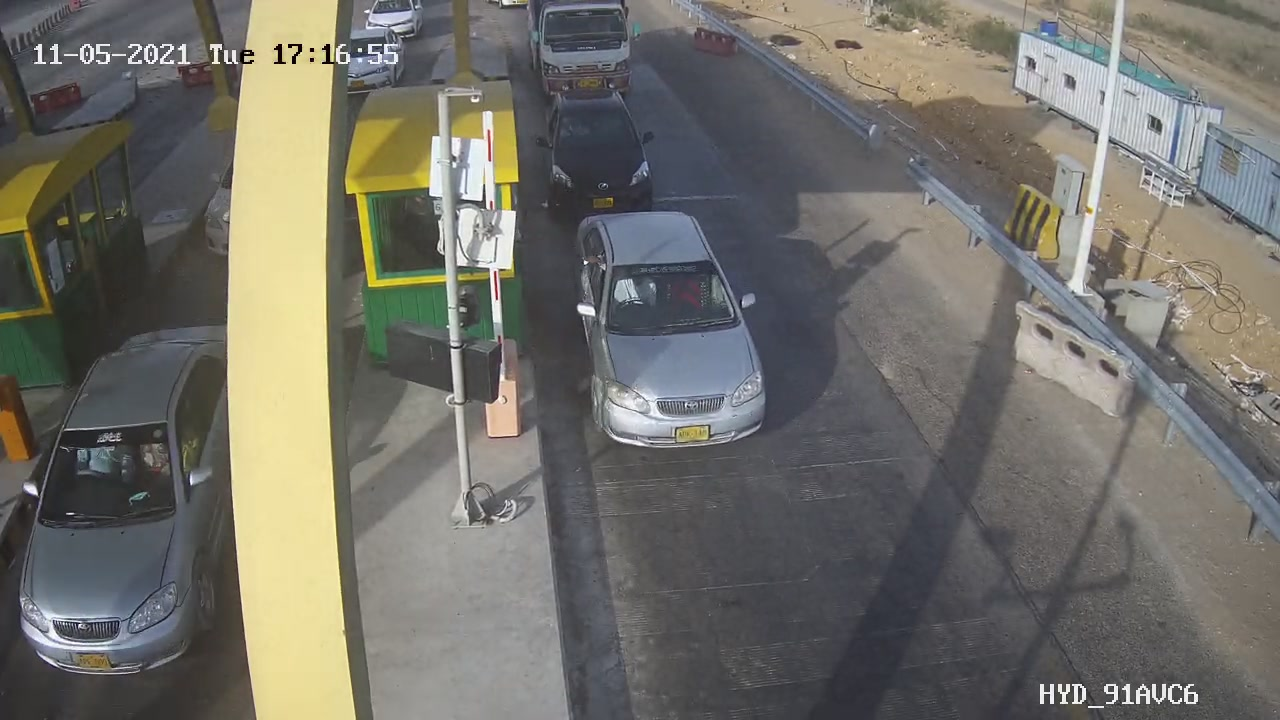F1: (556, 200, 787, 468), (524, 77, 669, 234)
